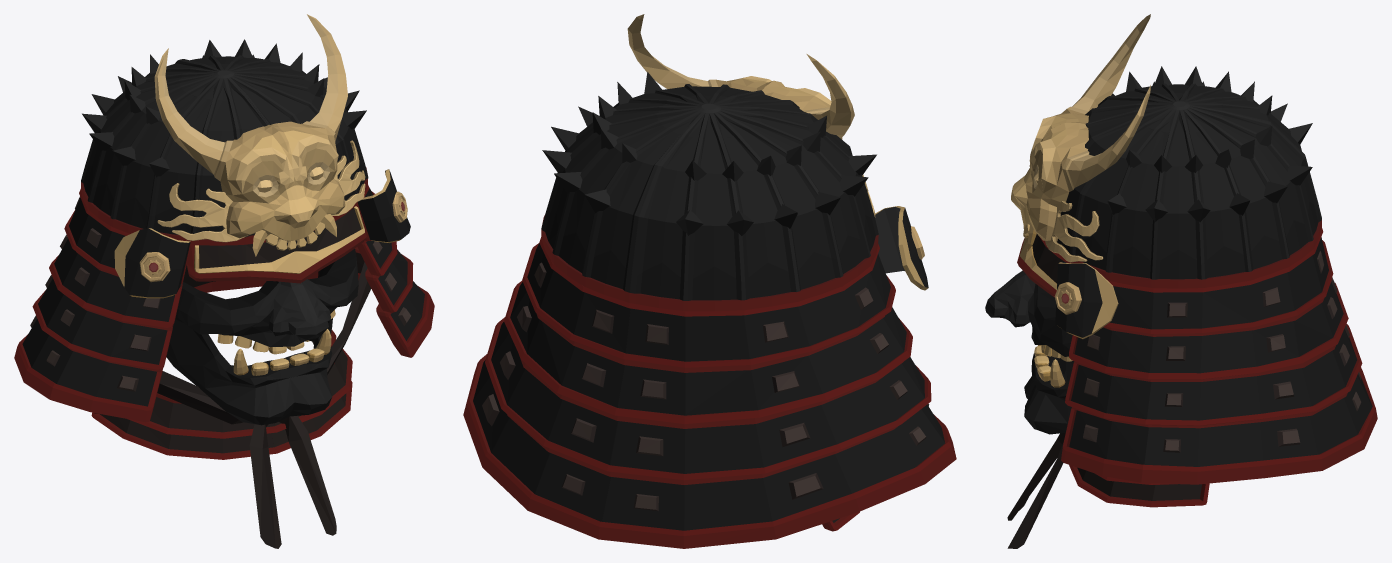
The model's file is samuraiArmorDemonHelmetBlackFemale.glb.
3 renders of one model, left to right at view 1: azimuth 30°, elevation 25°; view 2: azimuth 150°, elevation 25°; view 3: azimuth 270°, elevation 25°, orthographic. The views are drawn at different scales.
Parts seen in each view (by area): view 1: samuraiArmorDemonHelmetBlackFemale; view 2: samuraiArmorDemonHelmetBlackFemale; view 3: samuraiArmorDemonHelmetBlackFemale.
Boxes of the visible parts, box(x1,y1,x2,y2) form: samuraiArmorDemonHelmetBlackFemale: box(14, 14, 434, 548); samuraiArmorDemonHelmetBlackFemale: box(463, 14, 956, 548); samuraiArmorDemonHelmetBlackFemale: box(985, 14, 1377, 548).
Size of the model in its own units: 0.5023 by 0.5757 by 0.4222.
